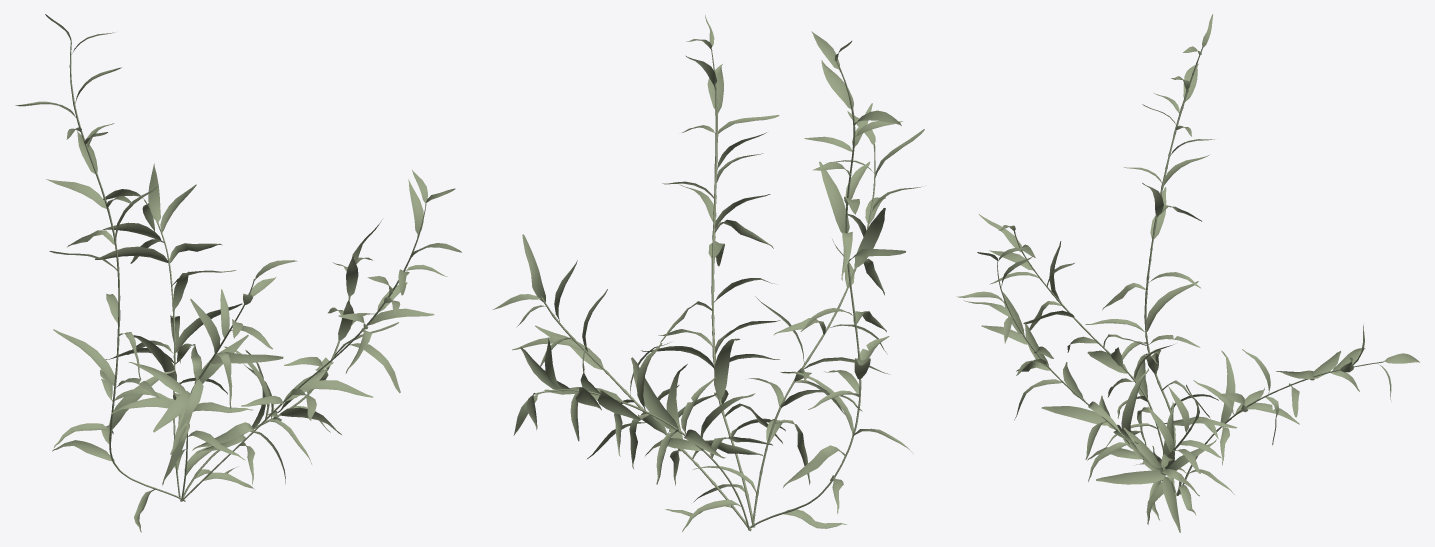
Rendered from shrub-lod0.glb.
3 renders of one model, left to right at view 1: azimuth 30°, elevation 25°; view 2: azimuth 150°, elevation 25°; view 3: azimuth 270°, elevation 25°, orthographic. The views are drawn at different scales.
Visible parts, largest first — view 1: shrub_02_a; view 2: shrub_02_a; view 3: shrub_02_a.
Part boxes in pixels (x1,y1,x2,y2): shrub_02_a: (15, 14, 461, 532); shrub_02_a: (492, 15, 924, 531); shrub_02_a: (956, 14, 1419, 532).
Size of the model in its own units: 1.31 by 1.69 by 1.64.
